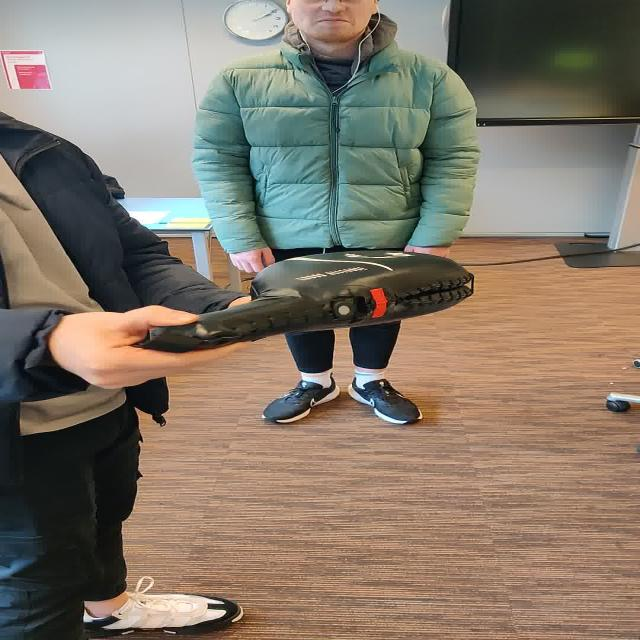paddle: (145, 249, 473, 350)
